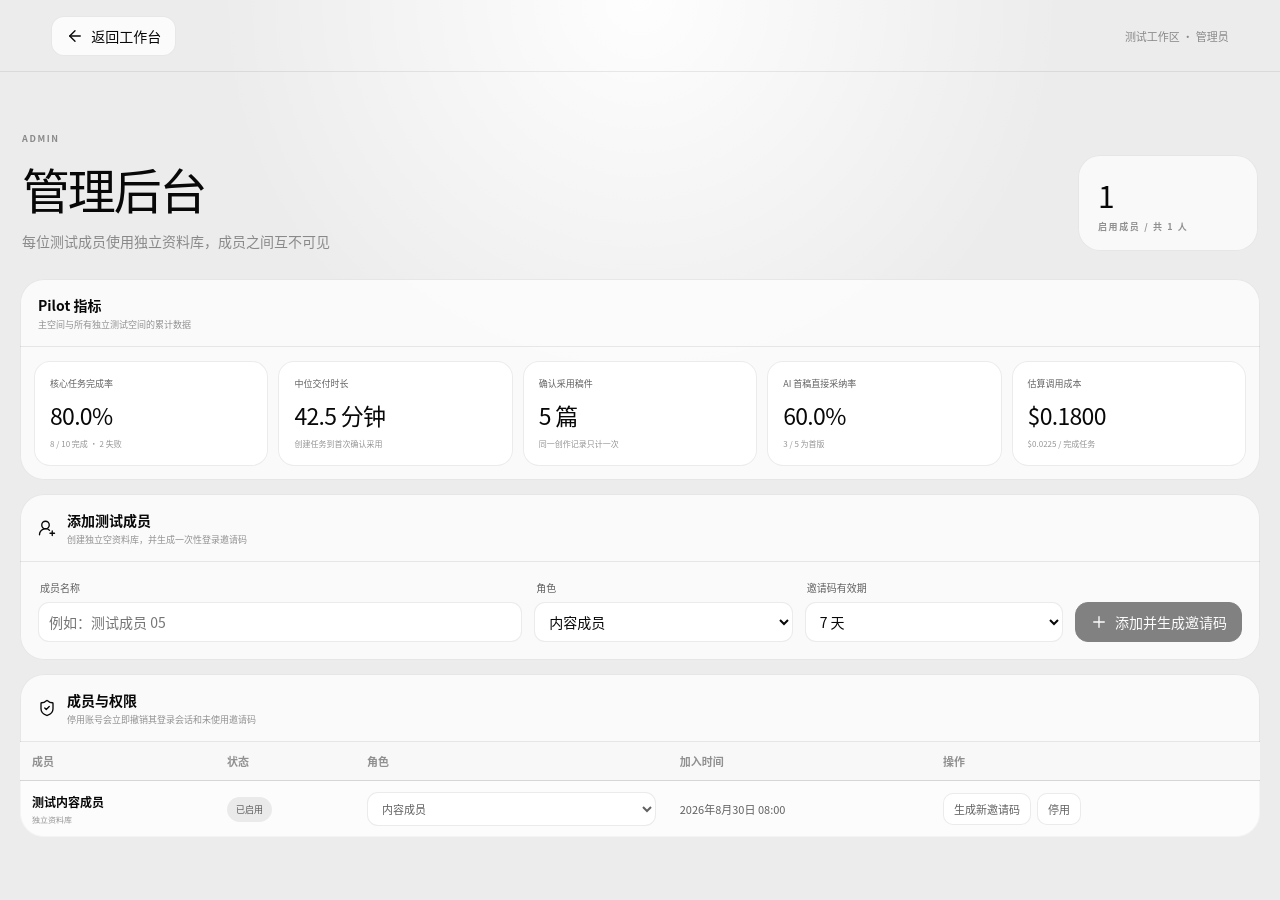
Test: 管理后台 › 允许管理员调整角色并添加带一次性邀请码的成员
The width and height of the screenshot is (1280, 900).
Check: the heading "管理后台" is shown, box [22,153,205,223]
Select "内容负责人" in the dropdown named "调整 测试内容成员 的角色" at (511, 809), box [367,792,656,826]
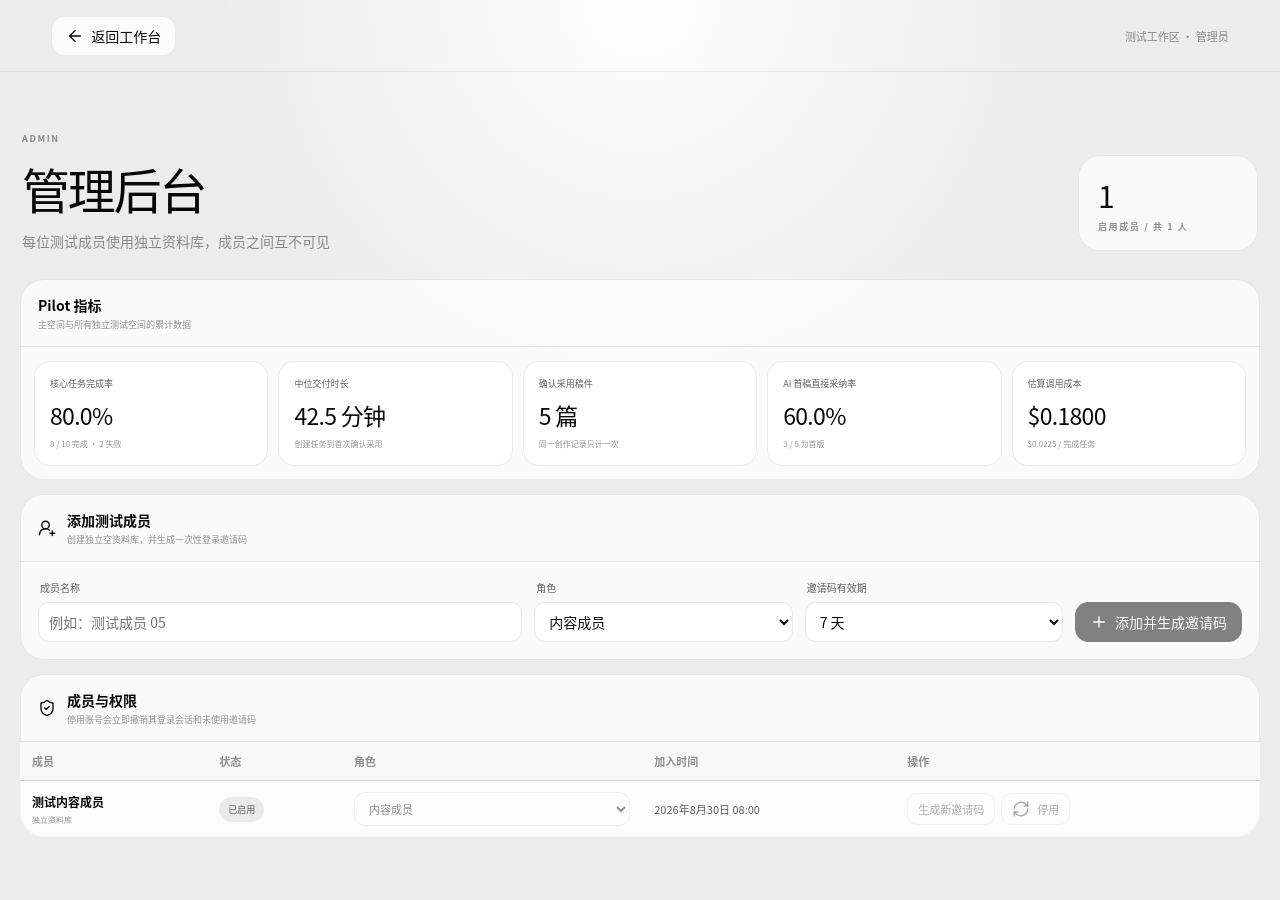
Type "第五位成员" into the field with placeholder "例如：测试成员 05" at (280, 622), box [38,602,522,642]
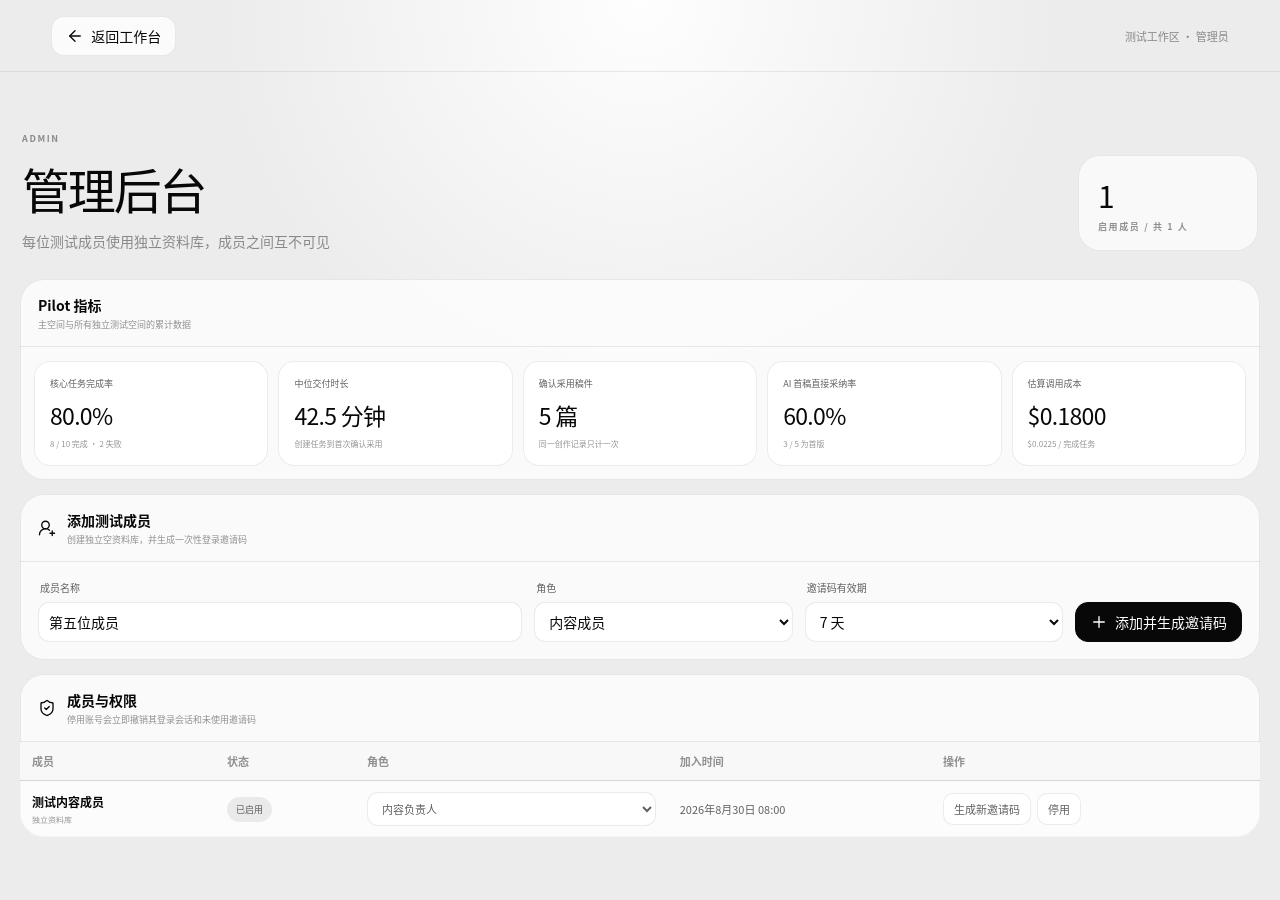
Click the button "添加并生成邀请码" at (1158, 622), box [1075,602,1242,642]
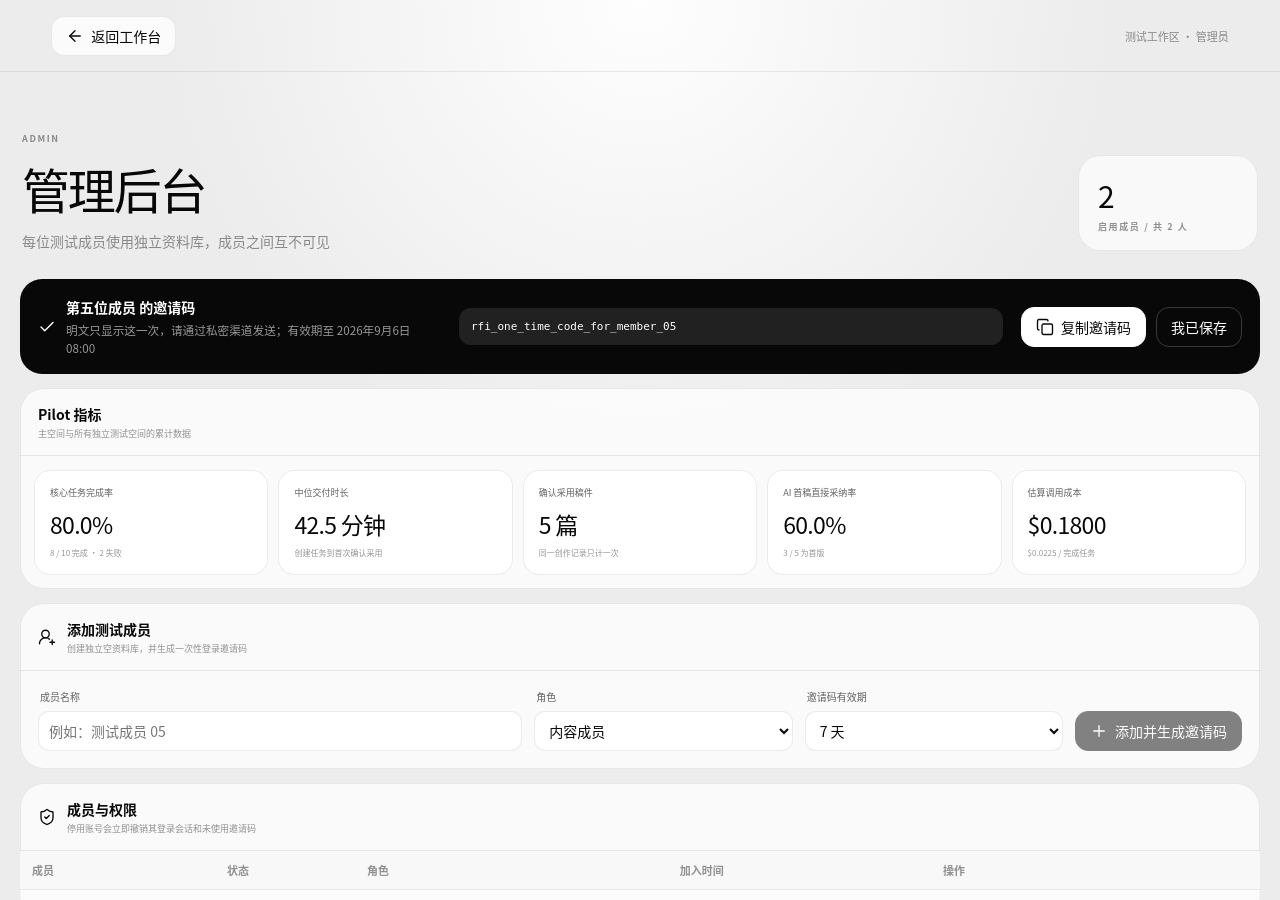
Check: the text "rfi_one_time_code_for_member_05" is shown, box [459,308,1003,345]
